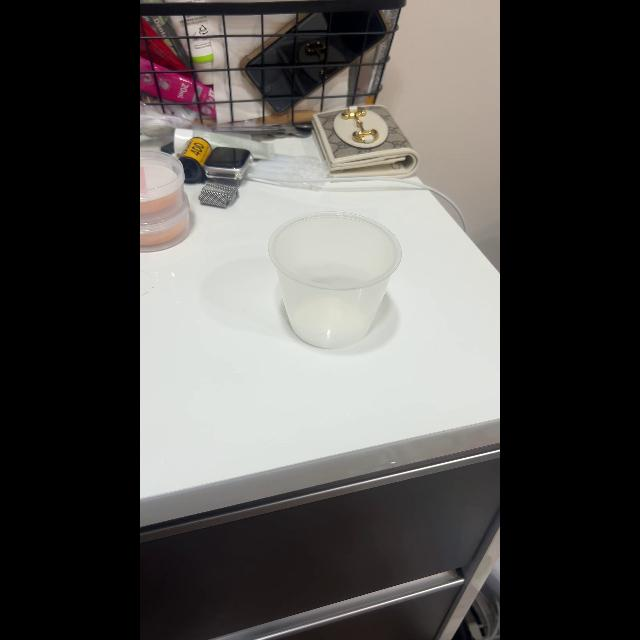clean: (269, 205, 395, 355)
